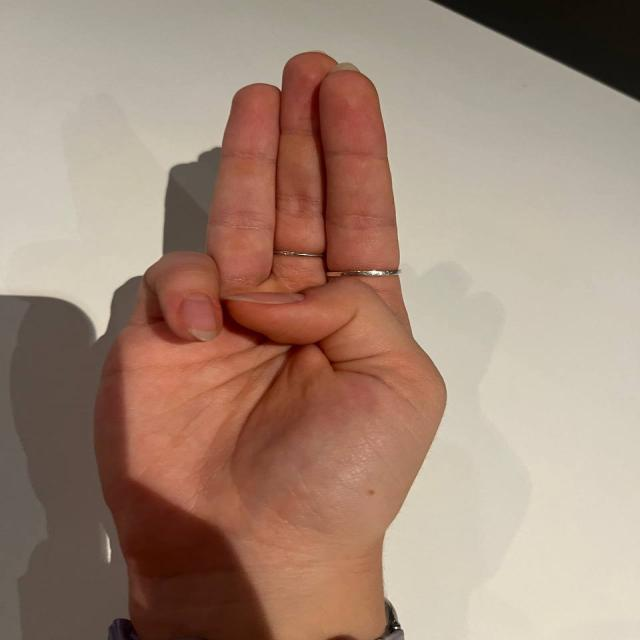sh: (133, 75, 464, 575)
